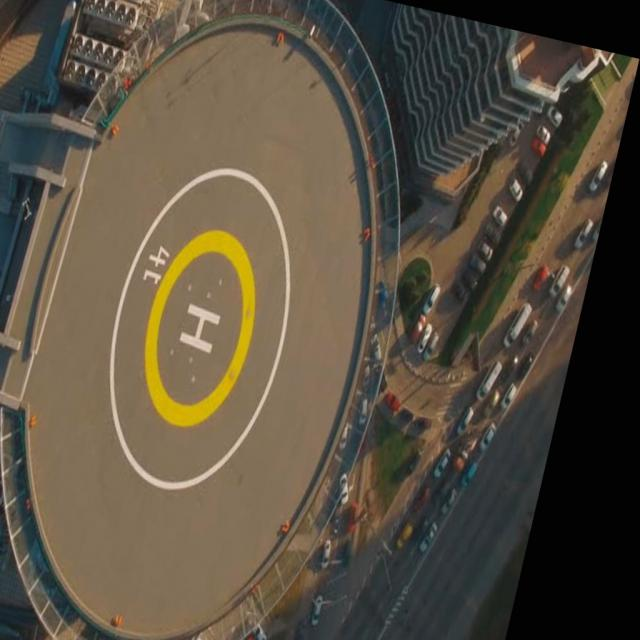helipad: (140, 225, 258, 434)
